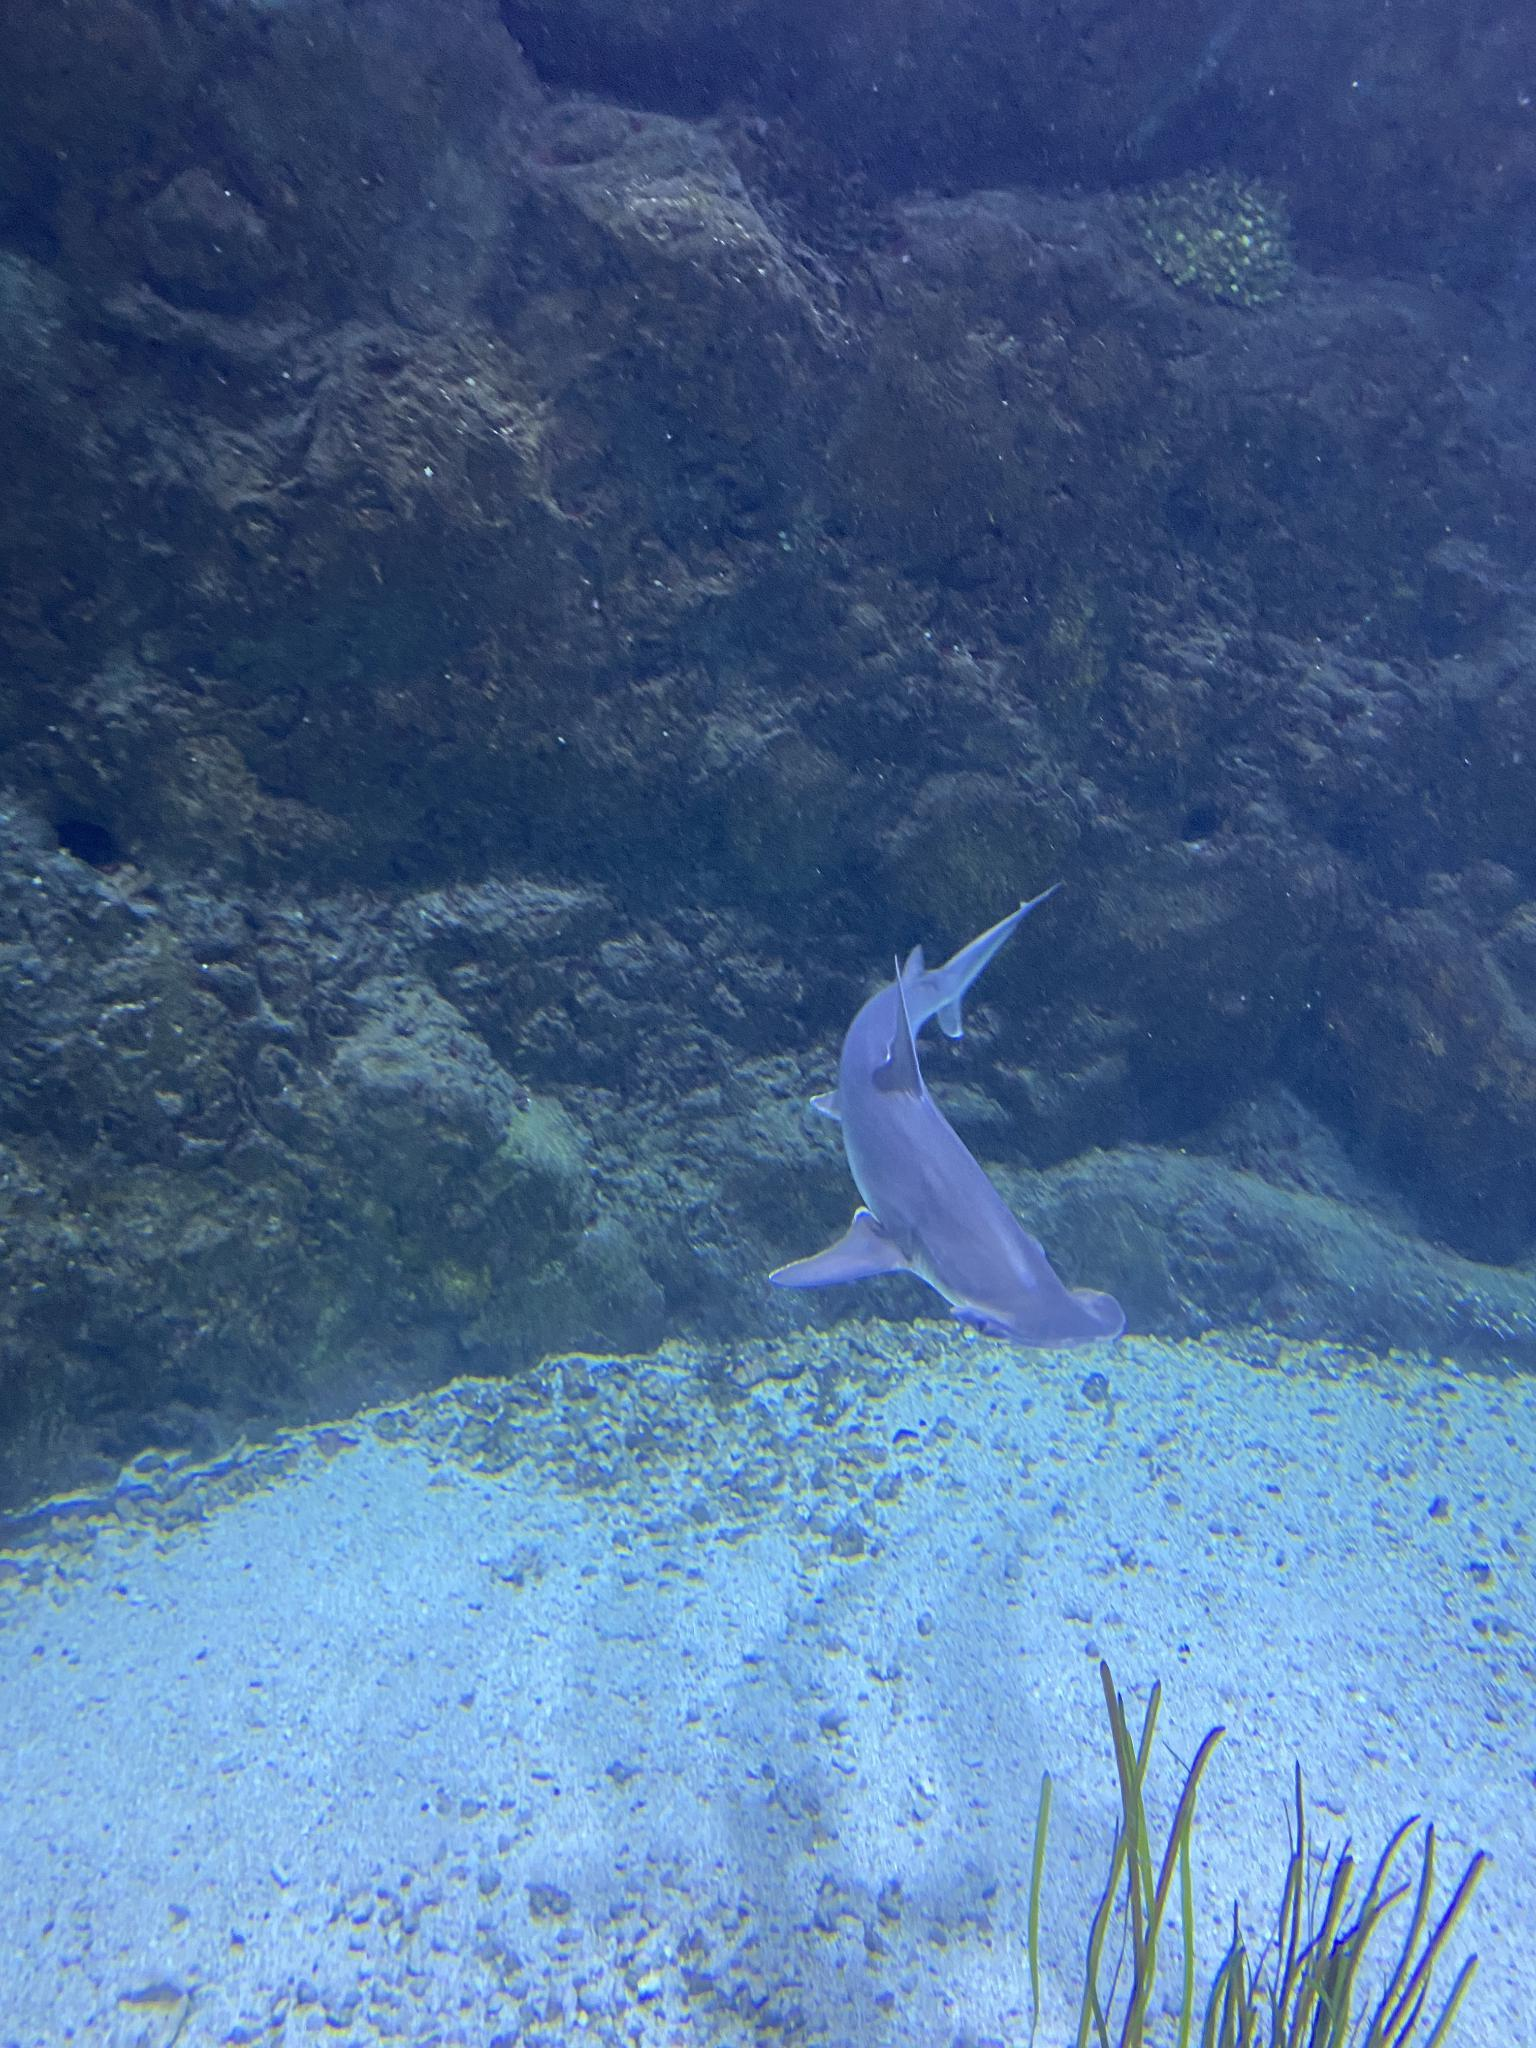shark: (765, 868, 1125, 1366)
